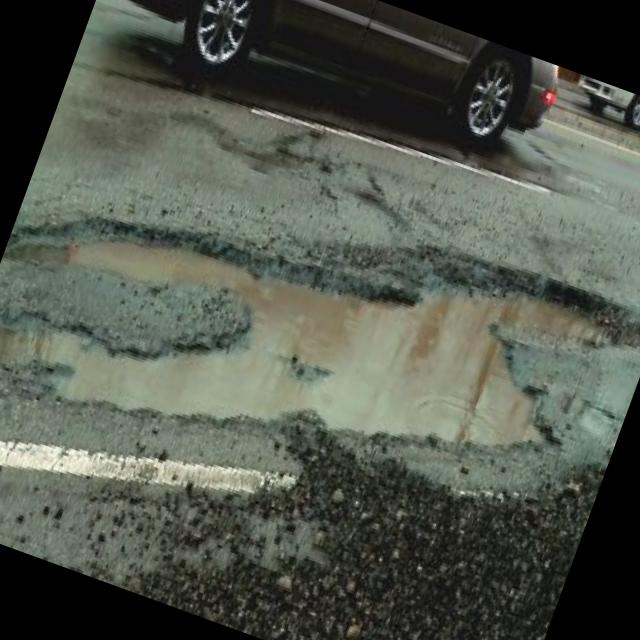Potholes: (0, 51, 640, 579)
